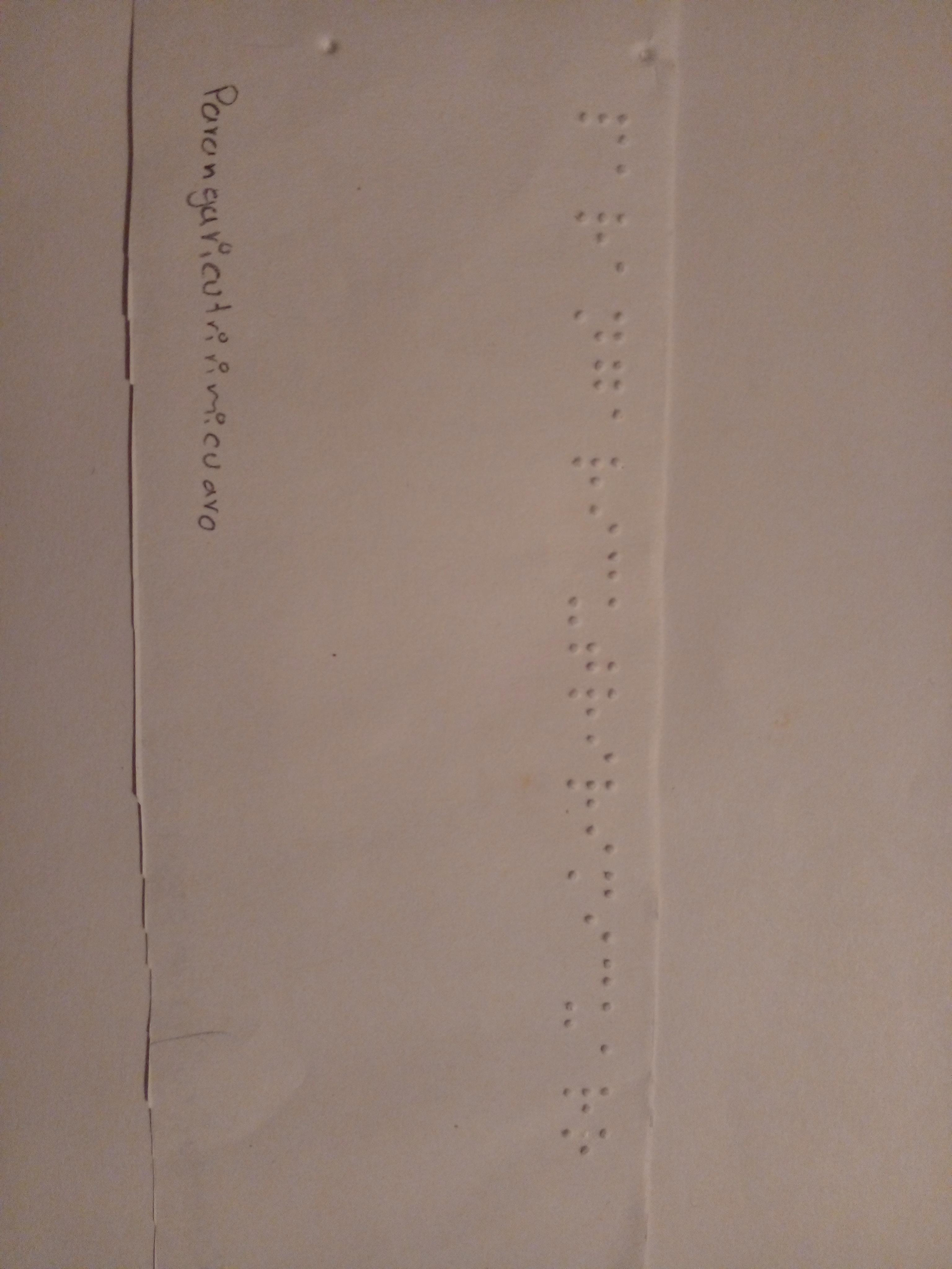a: (550, 1036, 640, 1075), (603, 256, 643, 288), (603, 150, 637, 187), (607, 395, 629, 435)
c: (547, 945, 634, 993), (595, 547, 635, 592)
g: (592, 353, 629, 397)
i: (549, 722, 637, 768), (555, 823, 640, 861), (552, 909, 637, 946), (576, 503, 629, 539)
m: (552, 860, 645, 911)
n: (566, 297, 634, 353)
o: (549, 1123, 624, 1160)
p: (576, 101, 640, 152)
r: (550, 770, 638, 818), (570, 192, 635, 254), (544, 683, 638, 725), (550, 1083, 628, 1117), (573, 448, 628, 493)
t: (545, 638, 643, 685)
u: (549, 590, 632, 634), (544, 995, 628, 1033)
